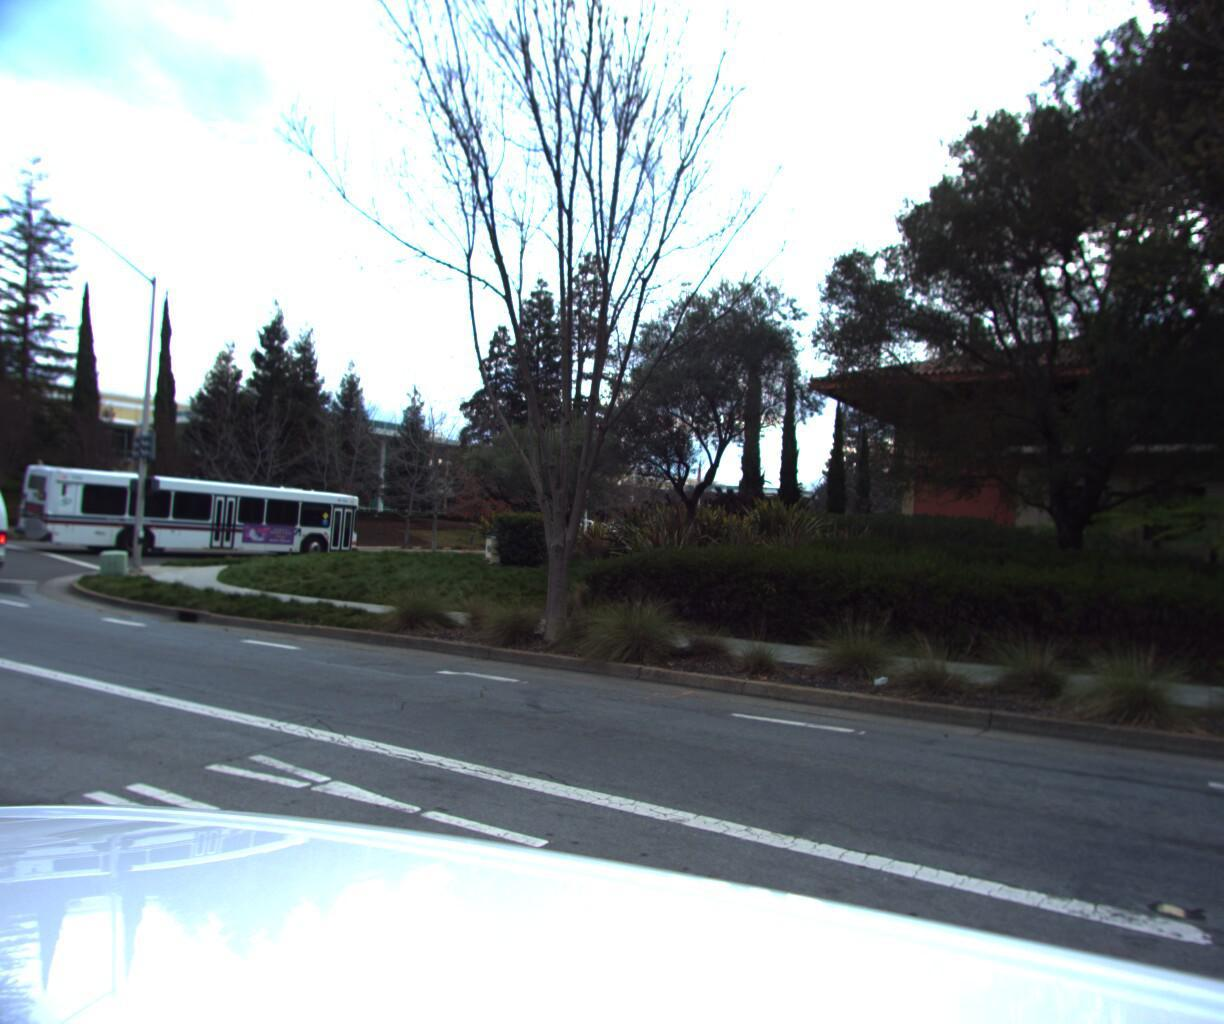bus: (0, 464, 367, 562)
car: (0, 472, 21, 595)
